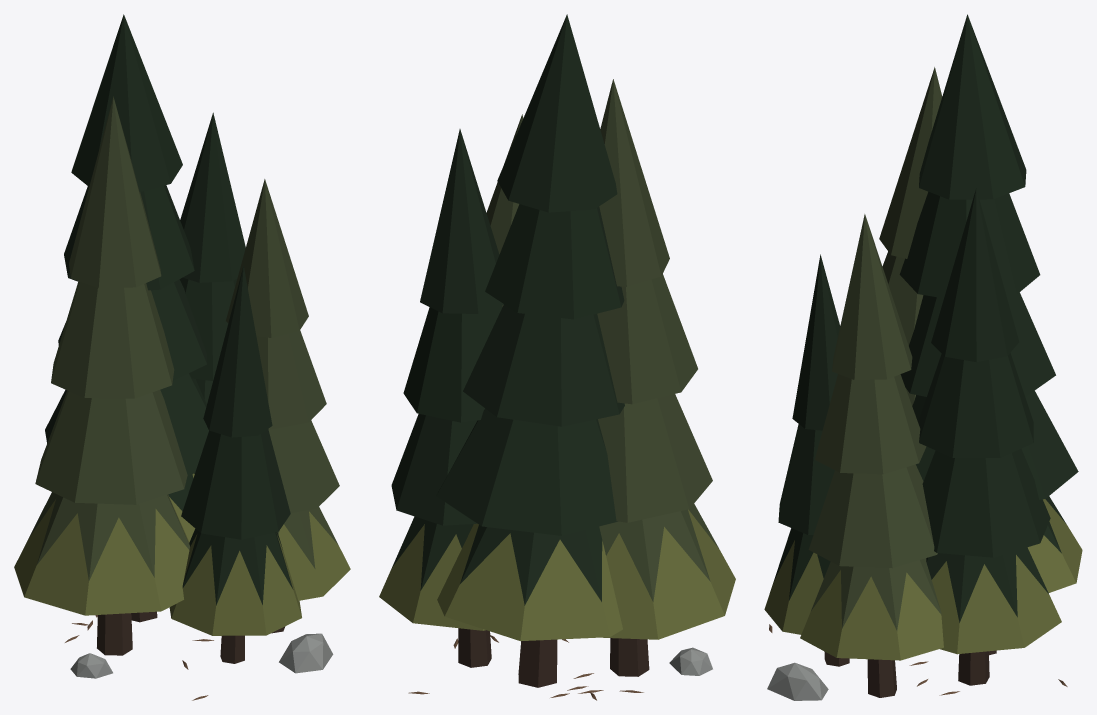
Rendered from campground-pine-stand-0bf4f2.glb.
3 renders of one model, left to right at view 1: azimuth 30°, elevation 25°; view 2: azimuth 150°, elevation 25°; view 3: azimuth 270°, elevation 25°, orthographic. The views are drawn at different scales.
Parts seen in each view (by area): view 1: campground-pine-stand-0bf4f2; view 2: campground-pine-stand-0bf4f2; view 3: campground-pine-stand-0bf4f2.
Boxes of the visible parts, <box> form: campground-pine-stand-0bf4f2: <box>14,14,350,700</box>; campground-pine-stand-0bf4f2: <box>379,14,735,700</box>; campground-pine-stand-0bf4f2: <box>764,14,1082,700</box>.
Size of the model in its own units: 4.57 by 8.99 by 4.15.
